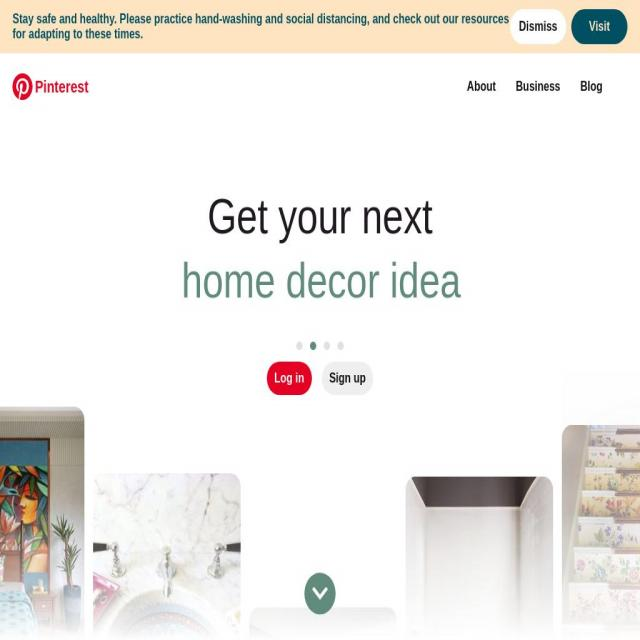login-option: (264, 362, 311, 396)
navigation-links: (464, 68, 608, 105)
sign-up-option: (328, 358, 373, 398)
